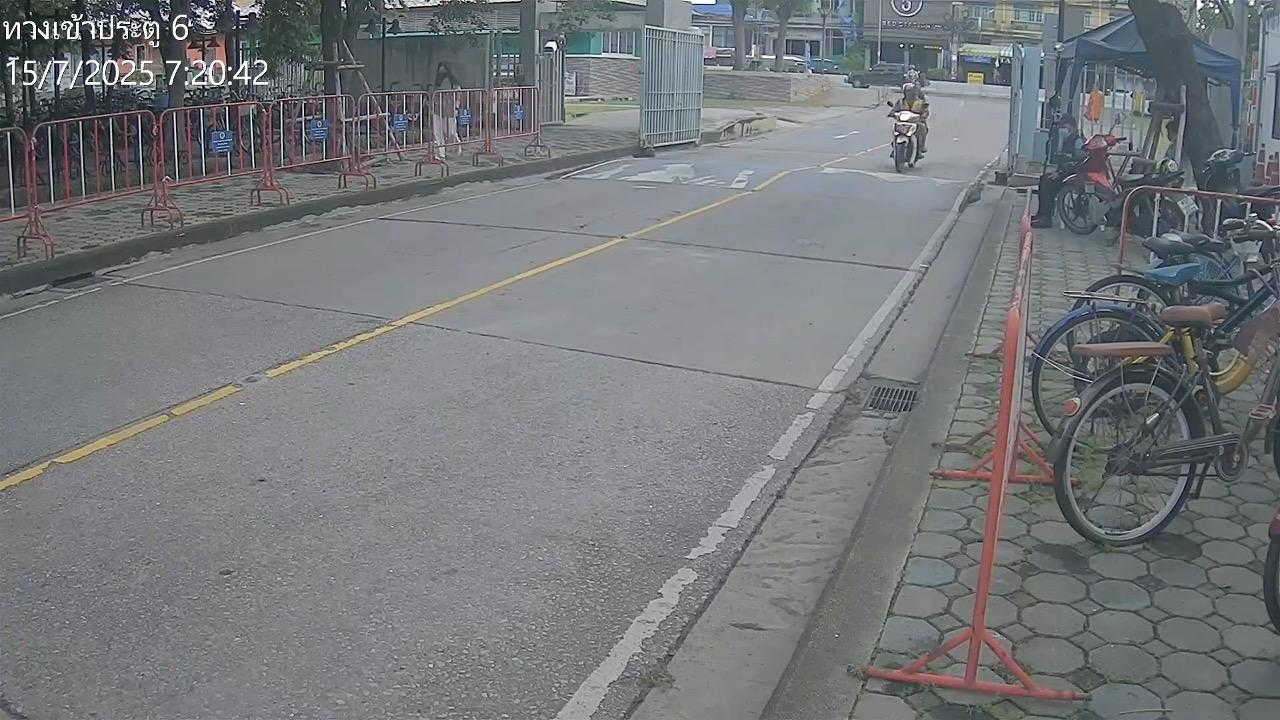With-Helmet: (902, 83, 916, 99)
